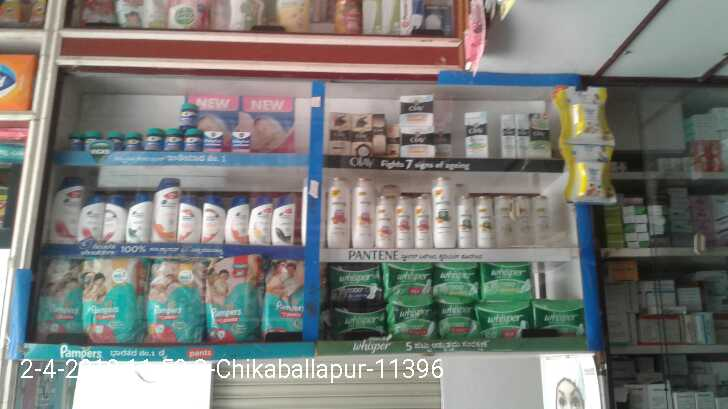vicks: (67, 129, 205, 155), (204, 129, 225, 154), (232, 133, 252, 153), (180, 102, 197, 121)
